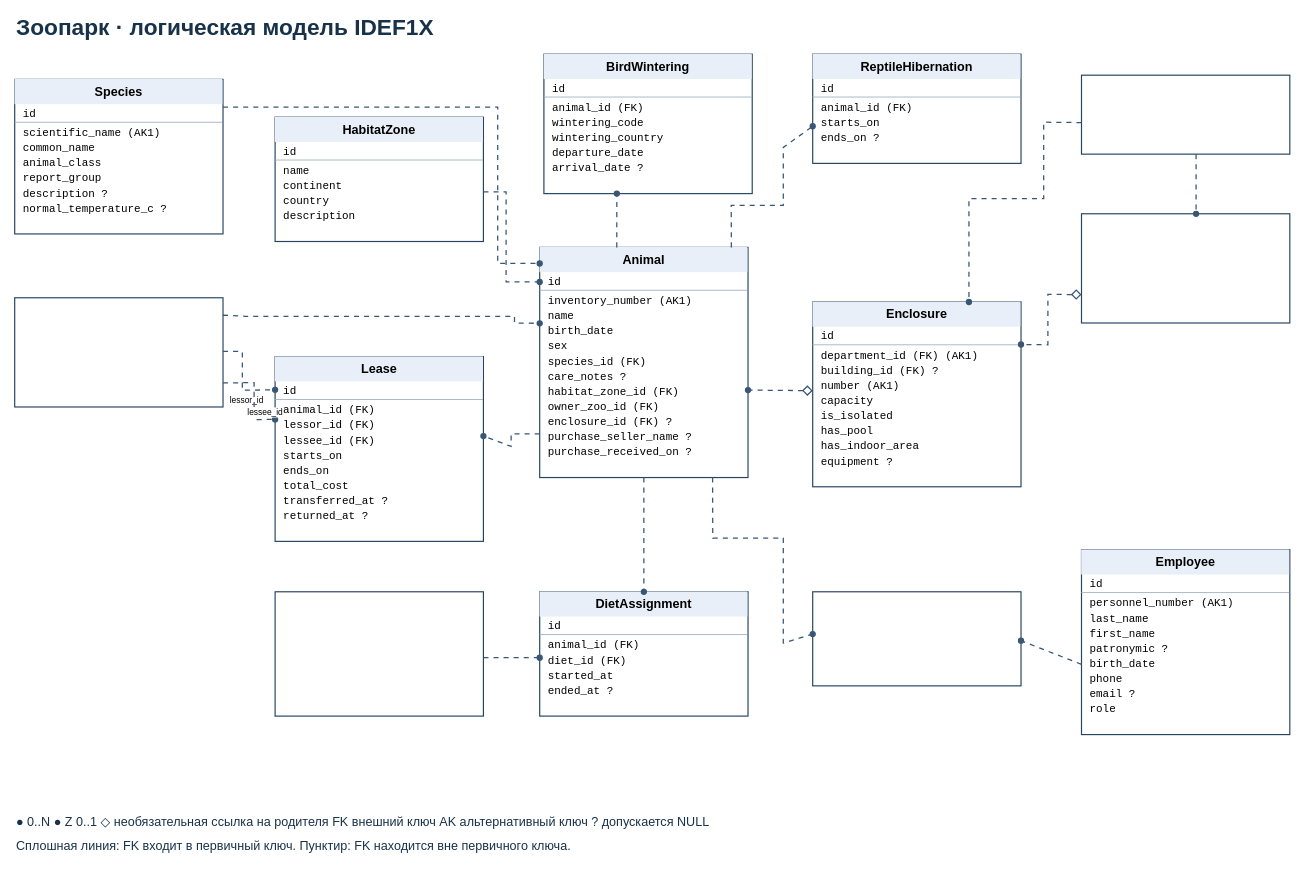
The diagram is 1305 pixels wide and 873 high, and some of its shapes have lost their labels. Each missing label, with the box of its shape:
Building id department_id (FK) name season: (1080, 213, 1290, 323)
CareAssignment id animal_id (FK) (AK1) employee_id (FK) (AK1): (812, 591, 1021, 686)
Department id name (AK1): (1080, 74, 1290, 154)
Diet id number (AK1) name diet_type contents: (274, 591, 484, 716)
Zoo id name address is_local: (14, 297, 223, 407)
